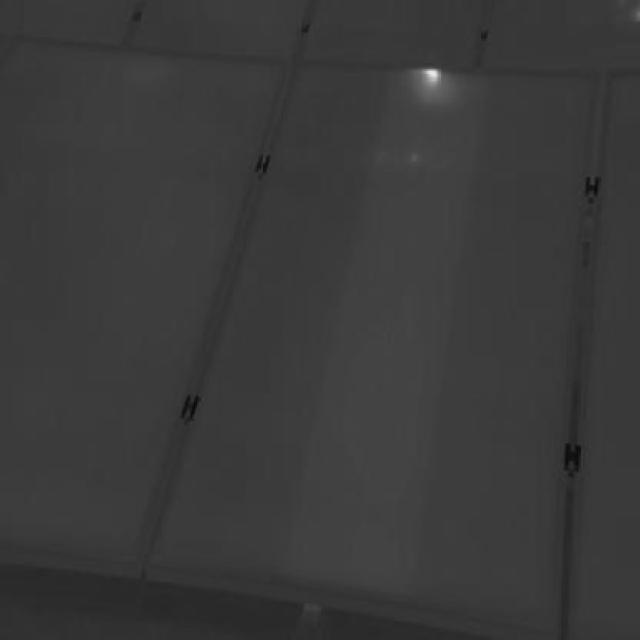hotspot: (416, 61, 450, 95)
